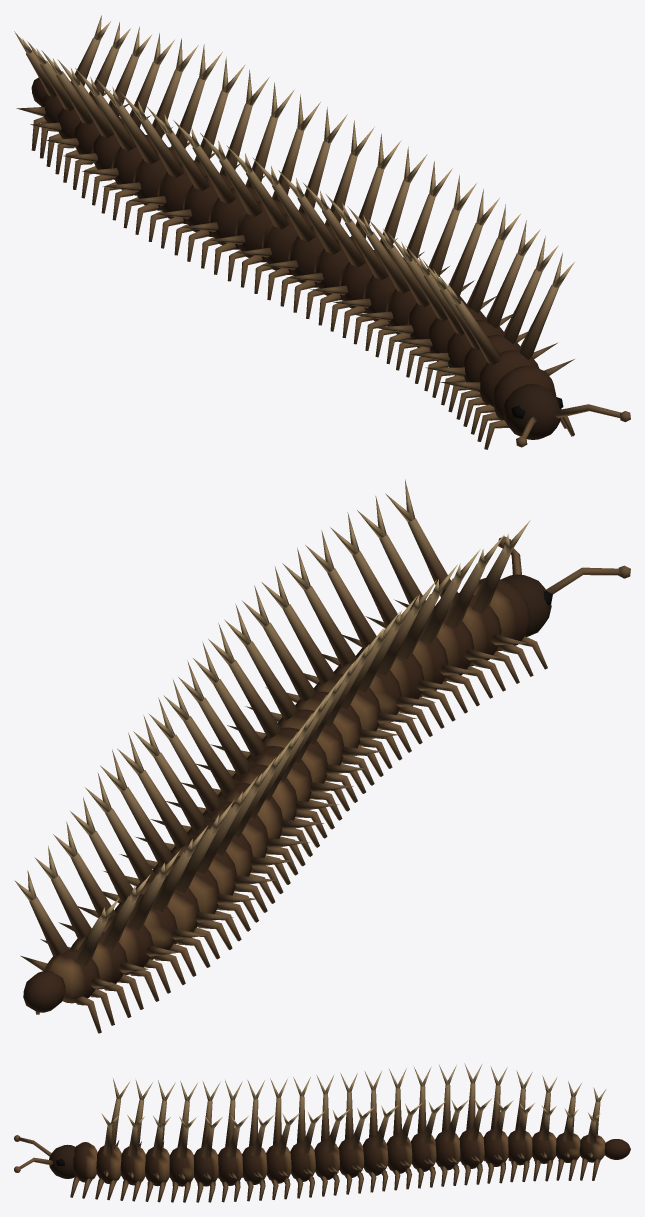
The model's file is Acantherpestes.fbx.
3 views of the same model, one above another, from view 1: azimuth 30°, elevation 25°; view 2: azimuth 150°, elevation 25°; view 3: azimuth 270°, elevation 25° (orthographic). The views are drawn at different scales.
Parts seen in each view (by area): view 1: Acantherpestes; view 2: Acantherpestes; view 3: Acantherpestes.
Boxes of the visible parts, x1,y1,x2,y2 form: Acantherpestes: (14,15,630,449); Acantherpestes: (14,479,630,1033); Acantherpestes: (14,1063,630,1202).
Bounding box in the file's own units: 0.4062 × 0.3147 × 1.89.
